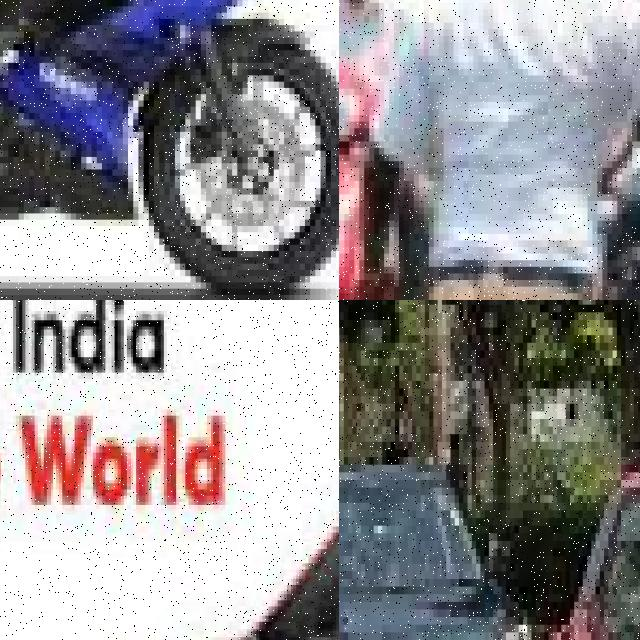bike: (0, 0, 339, 300), (339, 16, 394, 300)
car: (0, 394, 339, 640), (339, 419, 527, 640), (514, 419, 640, 640)
